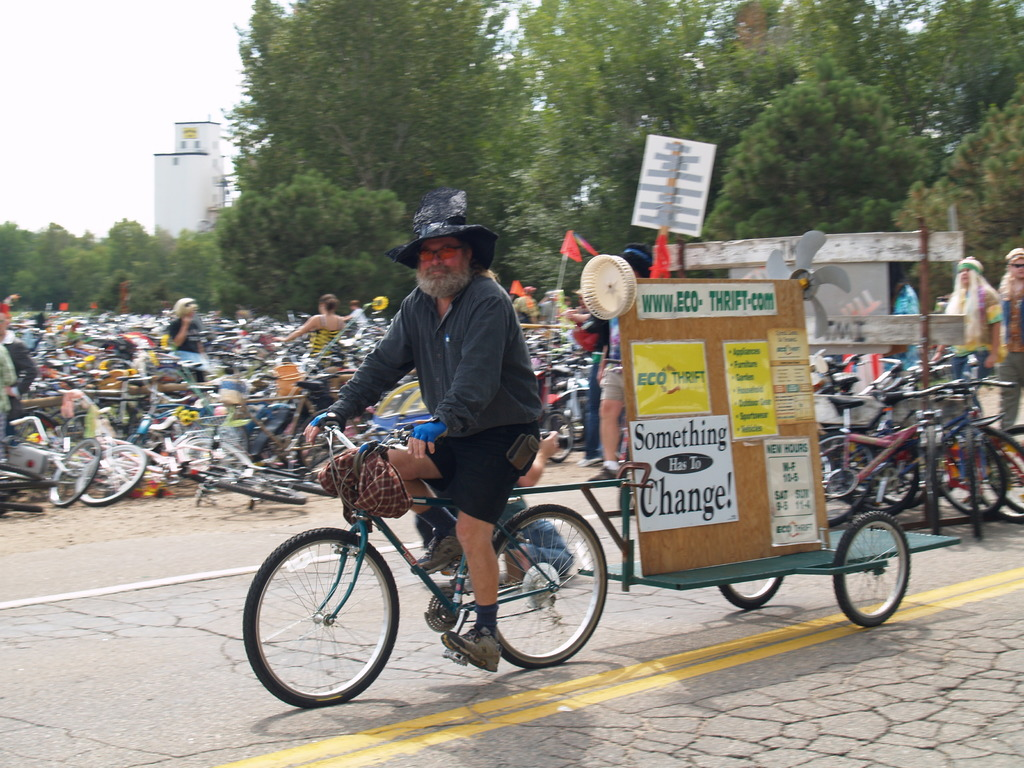Bike_toward: (229, 398, 611, 717)
